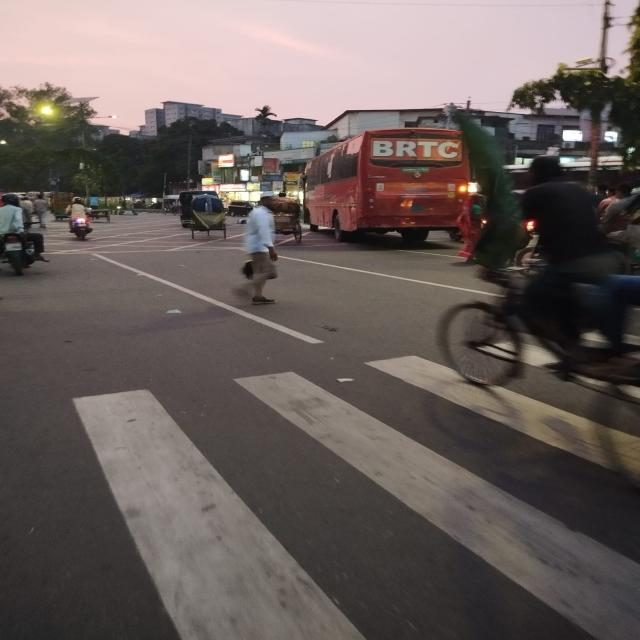person: (242, 191, 278, 305)
